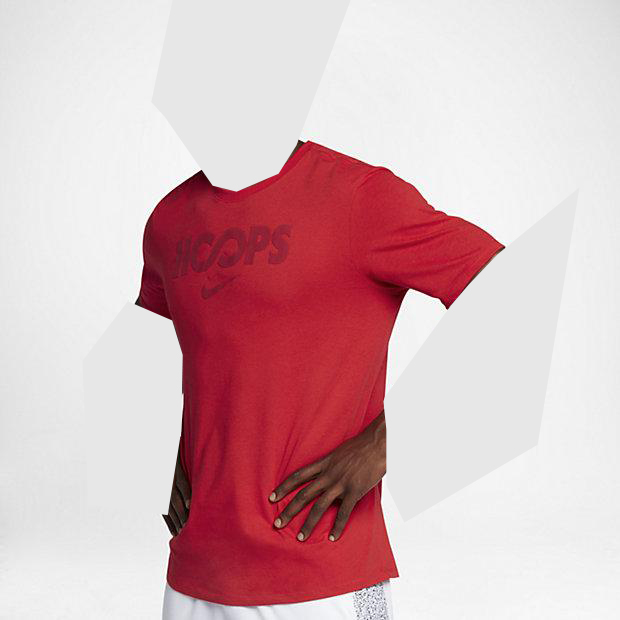teeshirt: (132, 140, 508, 589)
